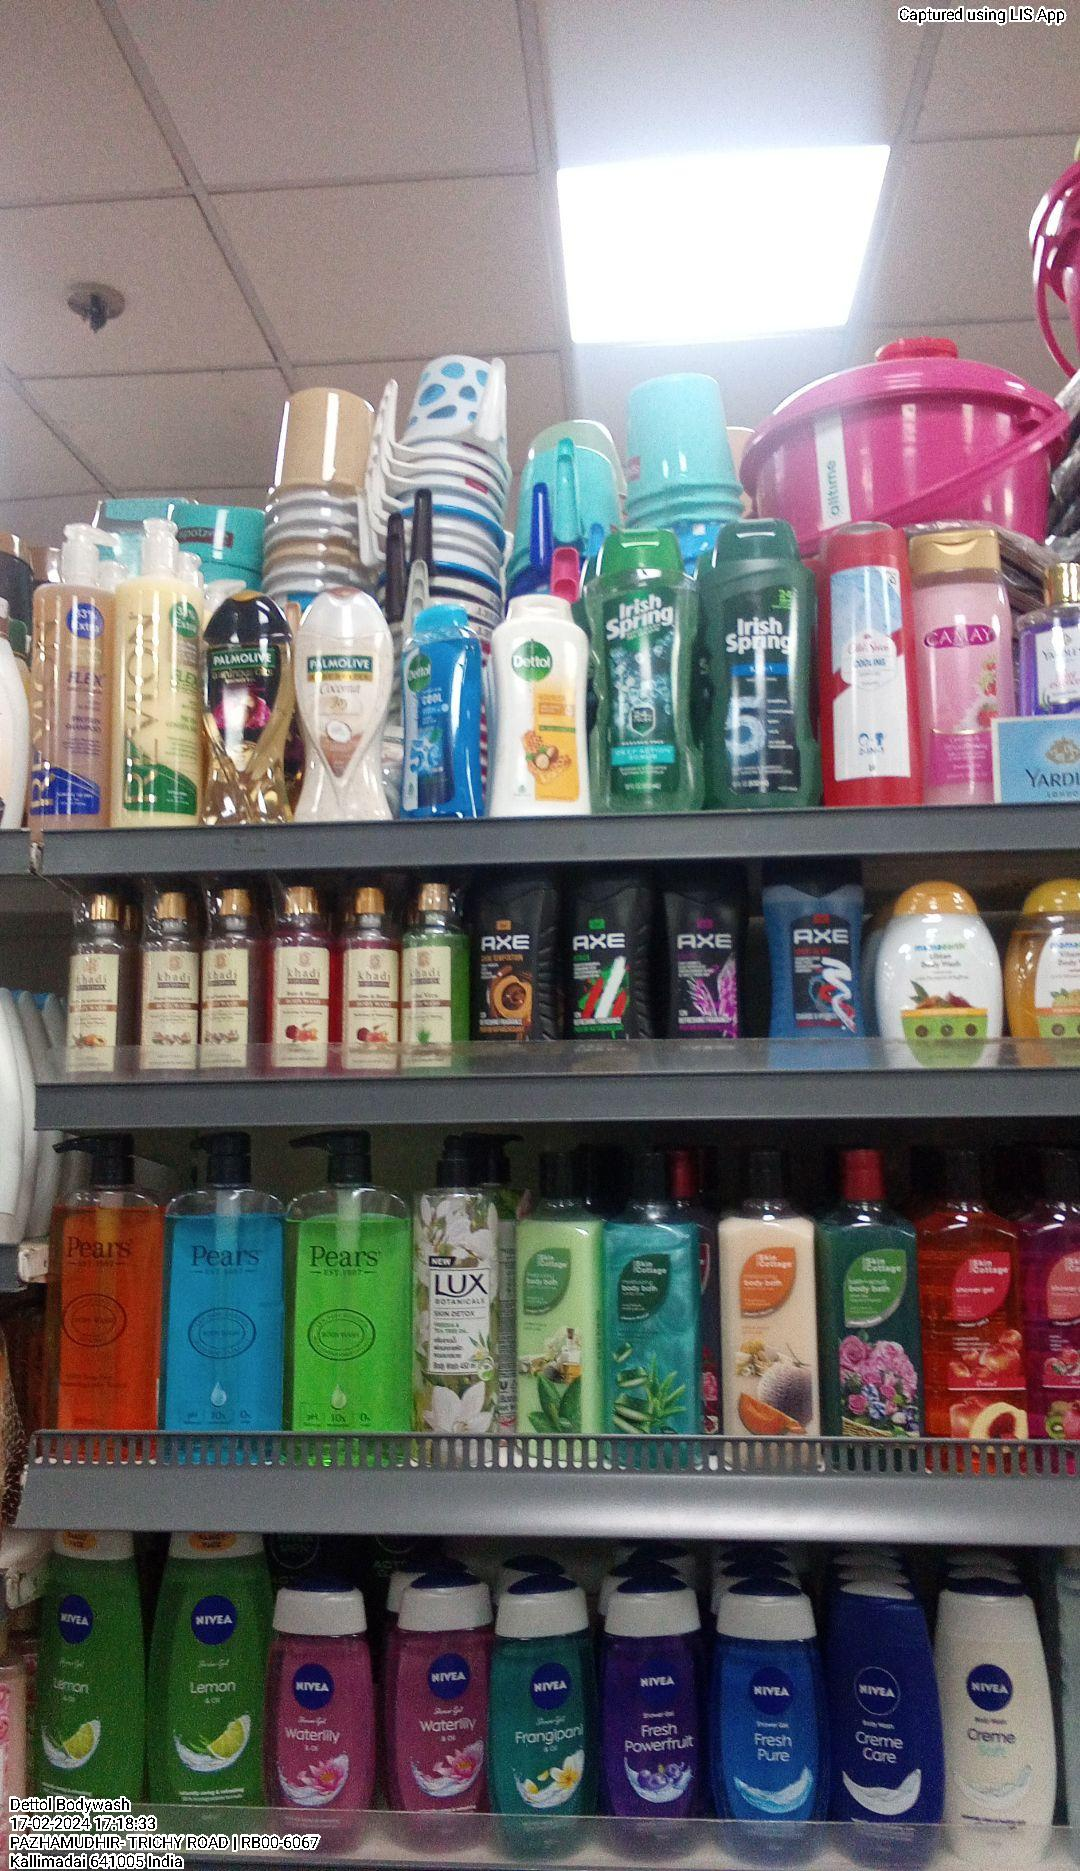Dettol_Bodywash_Cool: (404, 604, 483, 821)
Dettol_Nourish_Body_Wash_250ML: (490, 592, 586, 812)
Nivea_Shower_Gel_Frangipani_and_Oil_250ML: (499, 1574, 591, 1854)
Nivea_Shower_Gel_Fresh_Powerfruit_250ML: (599, 1572, 706, 1857)
Nivea_Shower_Gel_Lemon_and_Oil_250ML: (152, 1532, 271, 1836), (35, 1532, 145, 1803)
Nivea_Shower_Gel_Waterlily_and_Oil_250ML: (396, 1572, 494, 1847), (278, 1586, 377, 1849)
Palmolive_Coconut_Joy_Exfoliating_Body_Wash_250ML: (298, 585, 399, 819)
Palmolive_Luminous_Oils_Invigorating_Macadamia_Oil_With_Peony_250ML: (197, 591, 288, 826)
